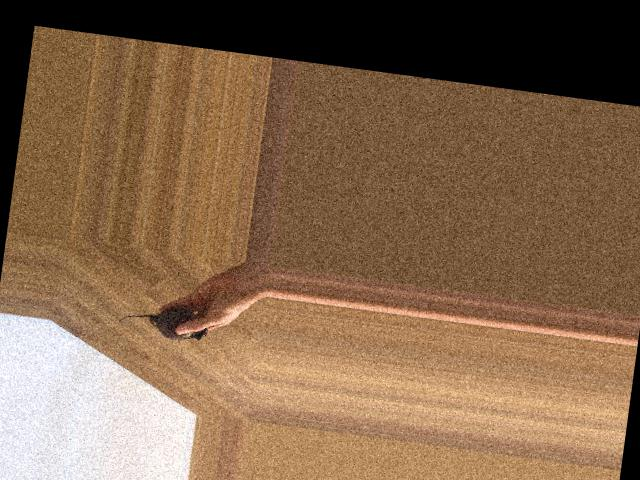beet: (116, 300, 209, 343)
